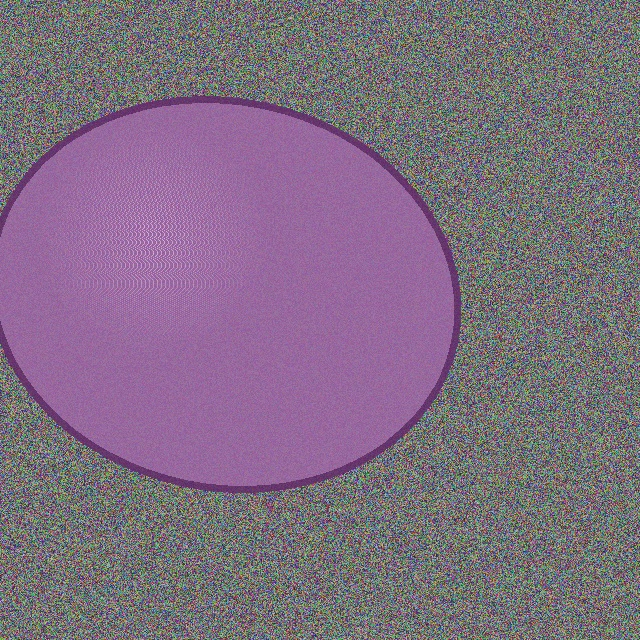lens: (0, 99, 456, 489)
